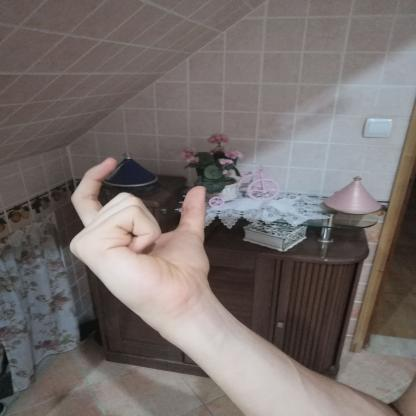NOON: (52, 148, 223, 324)
